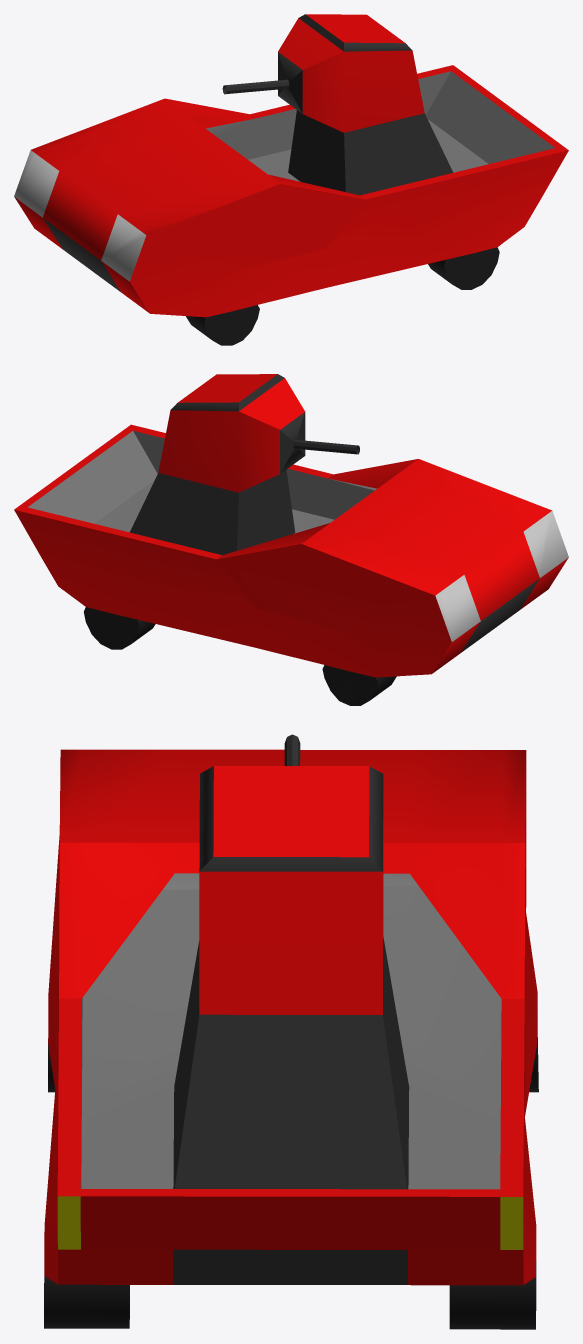
The model's file is WarLightRed.fbx.
The picture shows the model from 3 angles, top to bottom: view 1: azimuth 30°, elevation 25°; view 2: azimuth 150°, elevation 25°; view 3: azimuth 270°, elevation 25°; orthographic projection. The views are drawn at different scales.
Visible parts, largest first — view 1: pCylinder6; view 2: pCylinder6; view 3: pCylinder6.
Boxes of the visible parts, x1,y1,x2,y2 form: pCylinder6: (14,14,568,345); pCylinder6: (14,374,568,705); pCylinder6: (44,734,538,1329).
Size of the model in its own units: 4.31 by 2.23 by 2.11.
